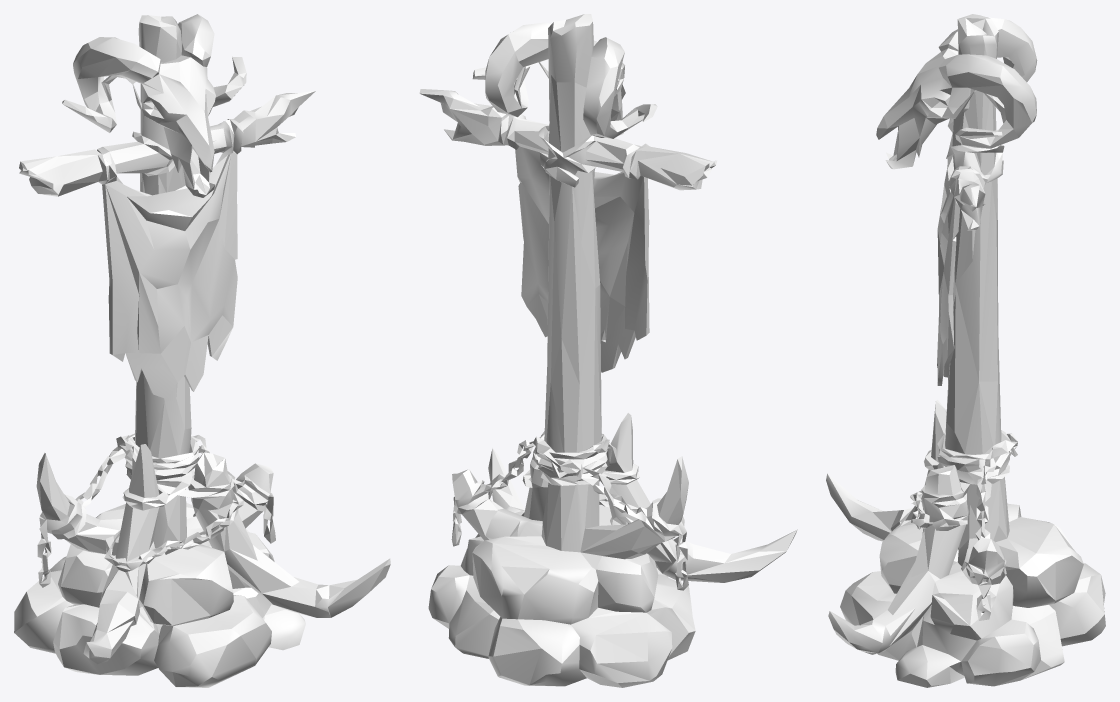
The model's file is bone_banner.glb.
3 renders of one model, left to right at view 1: azimuth 30°, elevation 25°; view 2: azimuth 150°, elevation 25°; view 3: azimuth 270°, elevation 25°, orthographic. The views are drawn at different scales.
Visible parts, largest first — view 1: bone_banner; view 2: bone_banner; view 3: bone_banner.
Boxes of the visible parts, bbox=[...] form: bone_banner: bbox=[14, 14, 390, 687]; bone_banner: bbox=[419, 14, 797, 687]; bone_banner: bbox=[826, 14, 1105, 687].
Size of the model in its own units: 2.15 by 4.2 by 1.74.
Materials: 1 (1 with a texture image).
